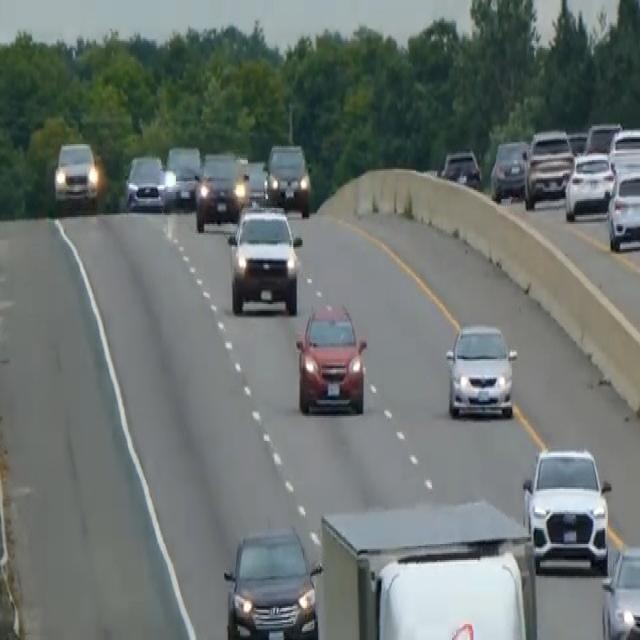car: (372, 548, 530, 638), (521, 443, 611, 574), (222, 523, 320, 638), (295, 299, 368, 416), (444, 320, 518, 420), (194, 149, 248, 231), (523, 126, 574, 208), (600, 542, 639, 638), (564, 150, 614, 220), (264, 141, 311, 215), (606, 164, 639, 252), (124, 151, 168, 212), (490, 137, 529, 201), (164, 142, 201, 206), (439, 146, 482, 190), (608, 124, 639, 172), (583, 119, 621, 157), (244, 156, 268, 204)
jeep: (226, 199, 303, 317), (52, 137, 100, 211)
lorry: (312, 494, 540, 638)
